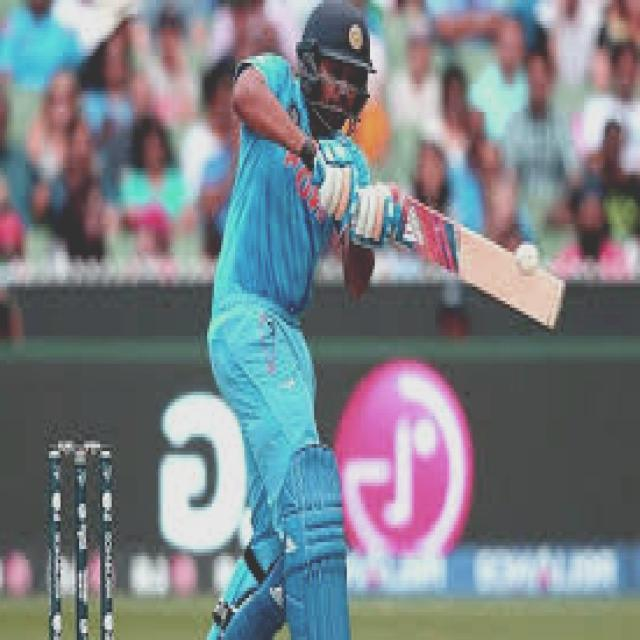toe: (537, 262, 567, 334)
